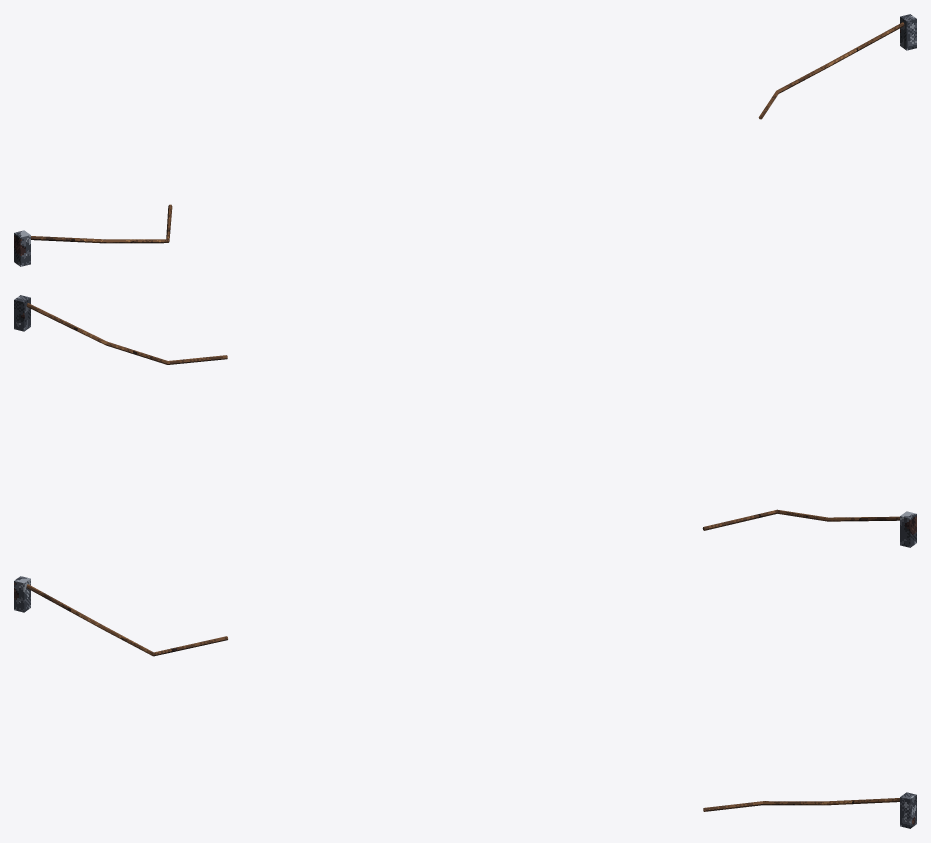
The model's file is SM_Trap_Tripwire_01_Snapped.glb.
The picture shows the model from 3 angles, top to bottom: view 1: azimuth 30°, elevation 25°; view 2: azimuth 150°, elevation 25°; view 3: azimuth 330°, elevation 25°; orthographic projection.
Parts seen in each view (by area): view 1: rope_end_-1, rope_end_1, iron_anchor_-1, iron_anchor_1; view 2: rope_end_1, rope_end_-1, iron_anchor_-1, iron_anchor_1; view 3: rope_end_-1, rope_end_1, iron_anchor_1, iron_anchor_-1.
Boxes of the visible parts, left/top/right/bottom form: rope_end_-1: left=31, top=204, right=172, bottom=243; rope_end_1: left=758, top=22, right=904, bottom=119; iron_anchor_-1: left=14, top=230, right=30, bottom=266; iron_anchor_1: left=900, top=14, right=916, bottom=50; rope_end_1: left=26, top=303, right=227, bottom=364; rope_end_-1: left=702, top=509, right=899, bottom=530; iron_anchor_-1: left=900, top=511, right=916, bottom=547; iron_anchor_1: left=14, top=295, right=30, bottom=331; rope_end_-1: left=26, top=584, right=227, bottom=656; rope_end_1: left=703, top=798, right=899, bottom=811; iron_anchor_1: left=900, top=792, right=916, bottom=828; iron_anchor_-1: left=14, top=576, right=30, bottom=612.
Bounding box in the file's own units: 4 × 0.1618 × 0.4499.
Materials: 1 (1 with a texture image).
